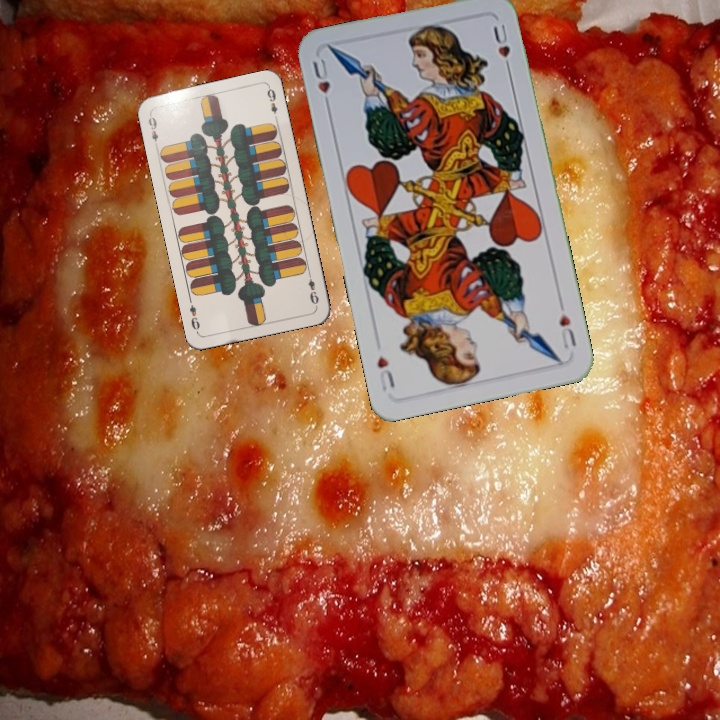E9: (144, 110, 161, 150), (304, 268, 321, 307)
HU: (309, 54, 333, 112), (555, 298, 579, 352)
